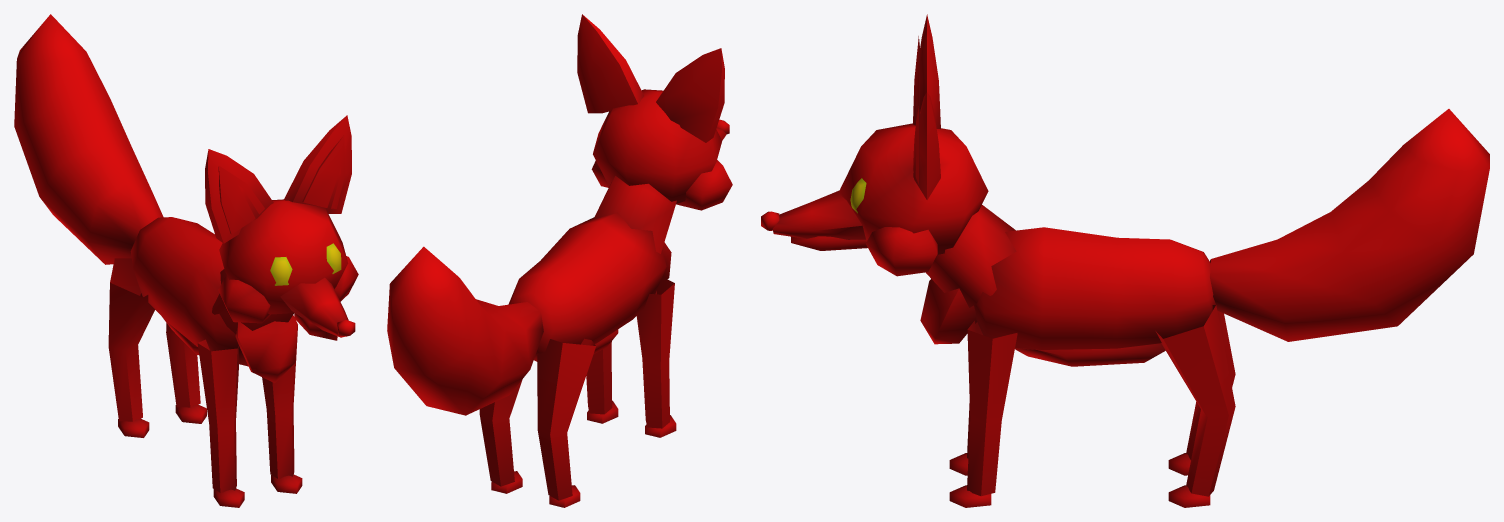
File: FoxAnimal_LOD1.glb
The picture shows the model from 3 angles, left to right: view 1: azimuth 30°, elevation 25°; view 2: azimuth 150°, elevation 25°; view 3: azimuth 270°, elevation 25°; orthographic projection. The views are drawn at different scales.
Parts seen in each view (by area): view 1: FoxAnimal_LOD1; view 2: FoxAnimal_LOD1; view 3: FoxAnimal_LOD1.
Part boxes in pixels (box(x1,y1,x2,y2)): FoxAnimal_LOD1: box(14, 14, 358, 507); FoxAnimal_LOD1: box(387, 14, 732, 507); FoxAnimal_LOD1: box(761, 14, 1489, 507).
Bounding box in the file's own units: 0.2329 × 0.5773 × 0.8785.
